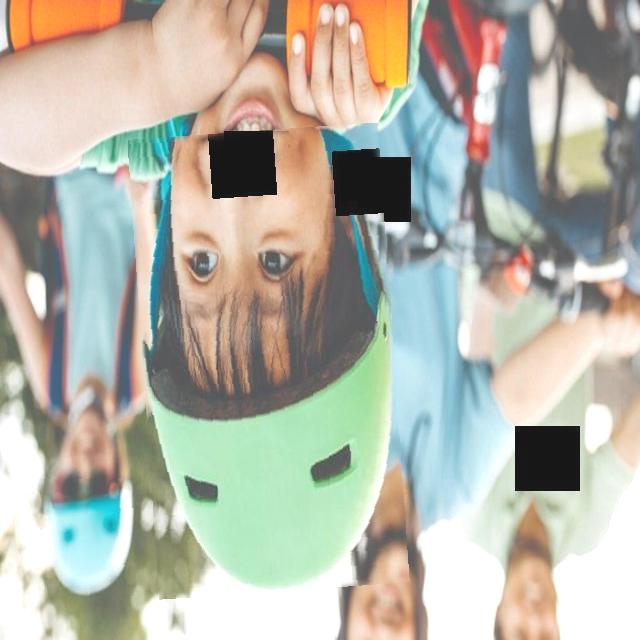helmet: (135, 127, 402, 596), (44, 478, 136, 596)
